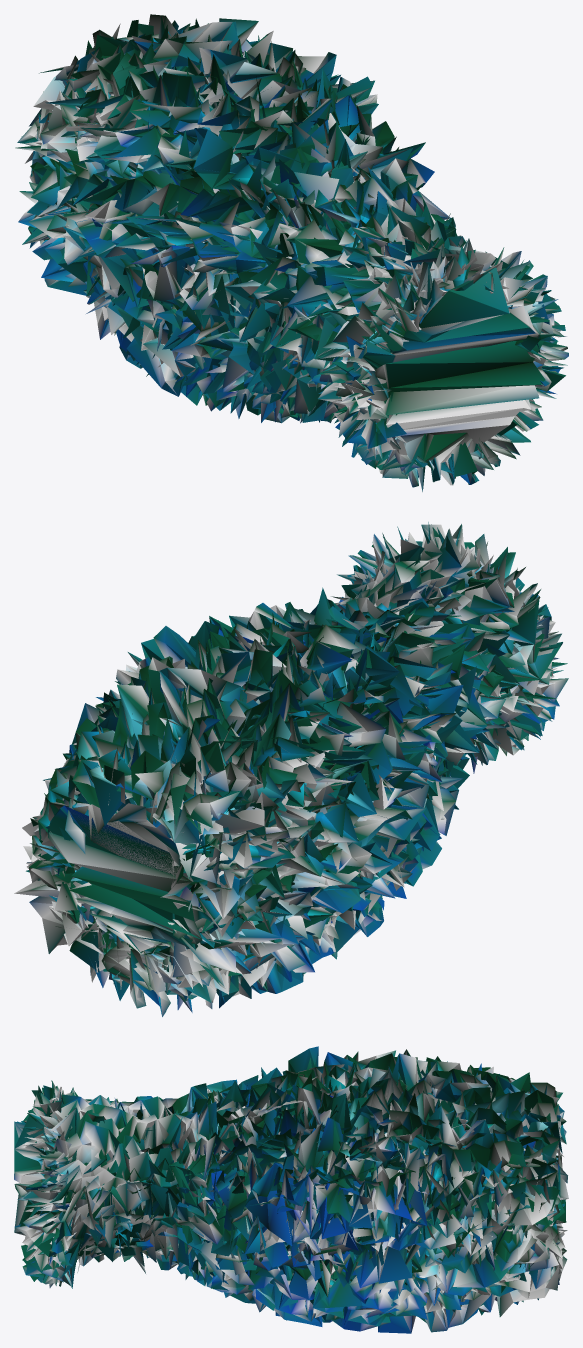
Rendered from lamp_shade_10_final500.obj.
3 views of the same model, one above another, from view 1: azimuth 30°, elevation 25°; view 2: azimuth 150°, elevation 25°; view 3: azimuth 270°, elevation 25° (orthographic). The views are drawn at different scales.
Bounding box in the file's own units: 1.03 × 0.9863 × 1.93.
